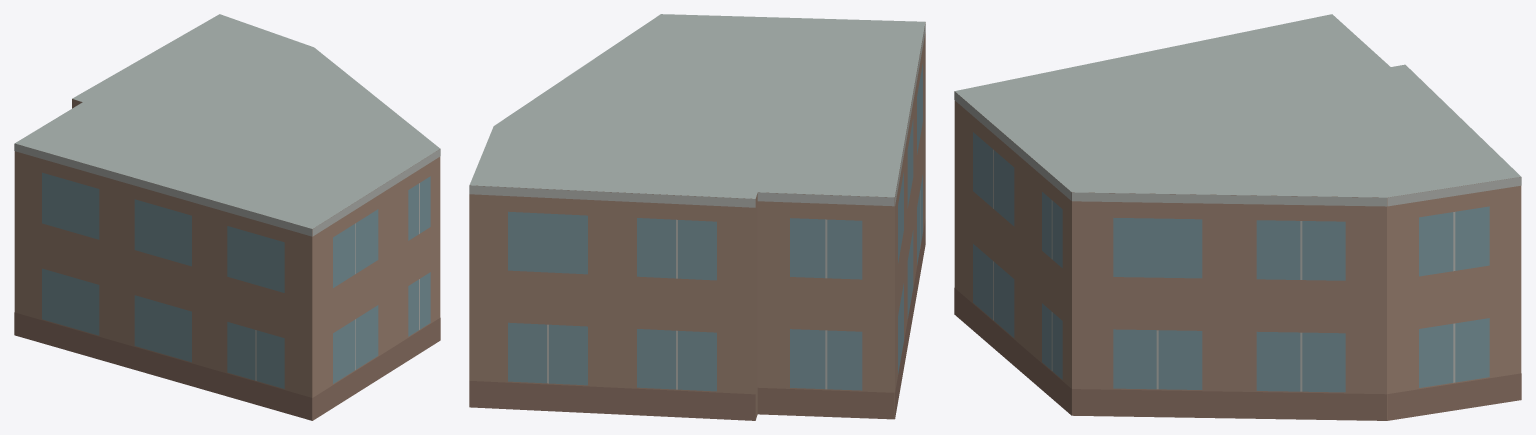
Rendered from survey-upis-32565289.glb.
3 renders of one model, left to right at view 1: azimuth 30°, elevation 25°; view 2: azimuth 150°, elevation 25°; view 3: azimuth 270°, elevation 25°, orthographic. The views are drawn at different scales.
Parts seen in each view (by area): view 1: survey-upis-32565289.tmp; view 2: survey-upis-32565289.tmp; view 3: survey-upis-32565289.tmp.
Part boxes in pixels (x1,y1,x2,y2): survey-upis-32565289.tmp: (14, 14, 440, 420); survey-upis-32565289.tmp: (469, 14, 925, 420); survey-upis-32565289.tmp: (954, 14, 1521, 420).
Size of the model in its own units: 10.77 by 6.1 by 14.05.
